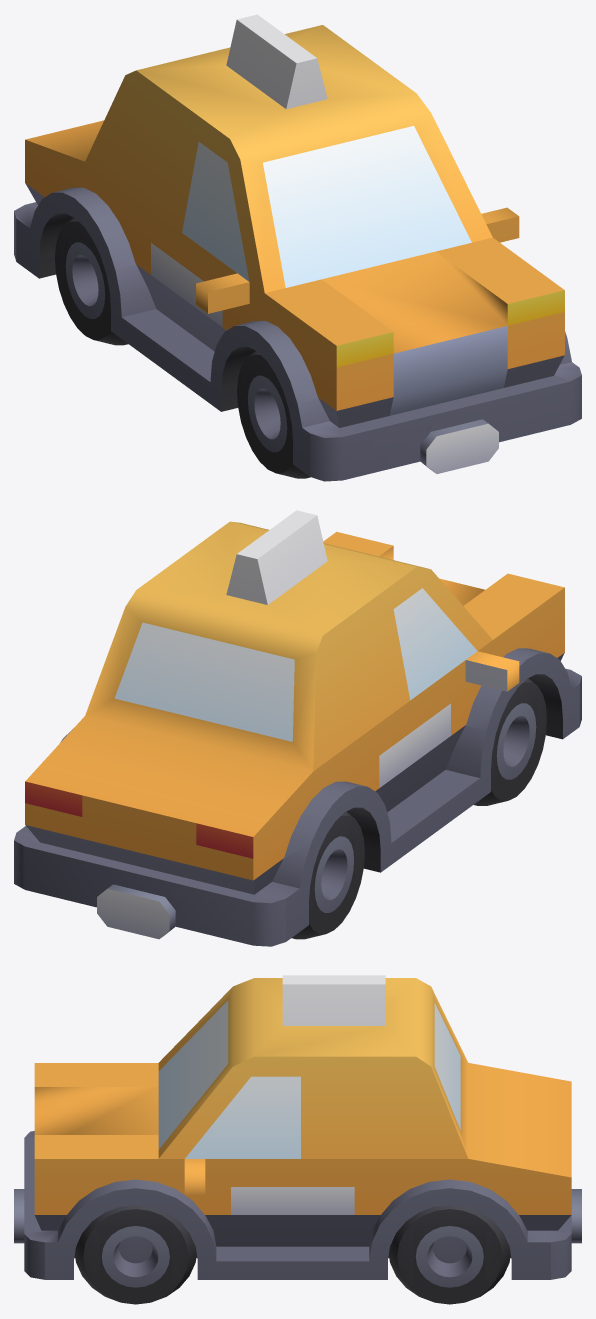
The model's file is taxi.glb.
3 views of the same model, one above another, from view 1: azimuth 30°, elevation 25°; view 2: azimuth 150°, elevation 25°; view 3: azimuth 270°, elevation 25° (orthographic). The views are drawn at different scales.
Parts seen in each view (by area): view 1: body, wheel-front-right, wheel-back-right; view 2: body, wheel-back-right, wheel-front-right; view 3: body, wheel-back-left, wheel-front-left.
Boxes of the visible parts, bbox=[...] form: body: bbox=[14, 14, 581, 481]; wheel-front-right: bbox=[237, 350, 310, 478]; wheel-back-right: bbox=[55, 217, 128, 345]; body: bbox=[14, 510, 581, 946]; wheel-back-right: bbox=[291, 811, 364, 939]; wheel-front-right: bbox=[473, 678, 546, 805]; body: bbox=[14, 975, 581, 1279]; wheel-back-left: bbox=[388, 1205, 510, 1304]; wheel-front-left: bbox=[75, 1205, 196, 1304].
Bounding box in the file's own units: 0.5455 × 0.5455 × 1.
1 material, 1 textured.
